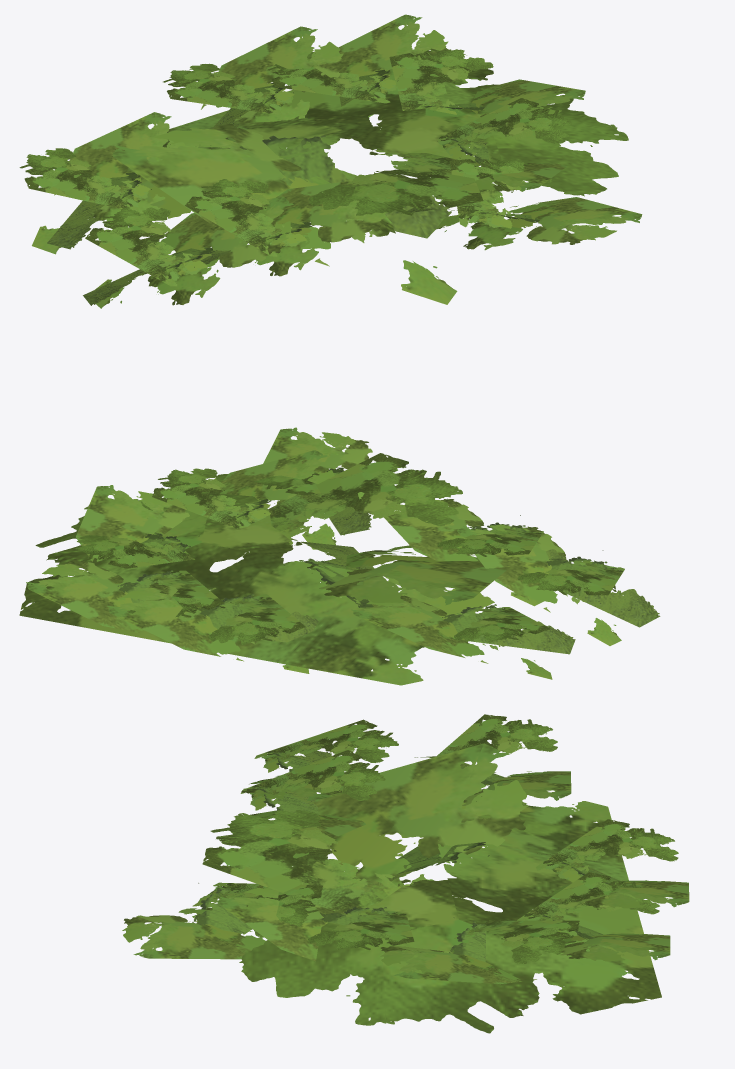
Rendered from Mousse_05.fbx.
3 views of the same model, one above another, from view 1: azimuth 30°, elevation 25°; view 2: azimuth 150°, elevation 25°; view 3: azimuth 270°, elevation 25° (orthographic). The views are drawn at different scales.
Visible parts, largest first — view 1: Mousse_05; view 2: Mousse_05; view 3: Mousse_05.
Part boxes in pixels (bbox=[...]): Mousse_05: bbox=[19, 14, 642, 308]; Mousse_05: bbox=[19, 427, 660, 685]; Mousse_05: bbox=[122, 714, 689, 1033].
Bounding box in the file's own units: 2.18 × 0.3937 × 2.07.
